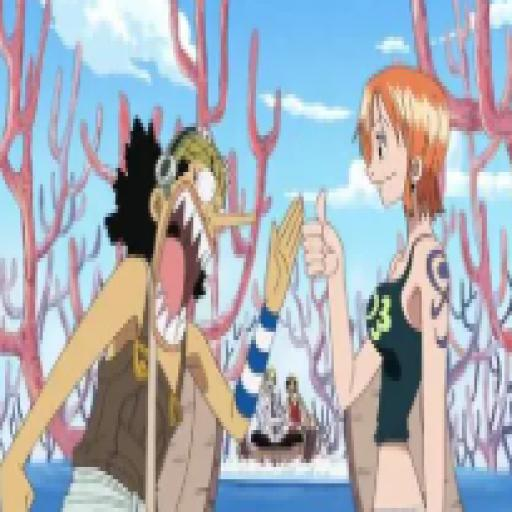Nami: (300, 64, 457, 512)
Usopp: (0, 110, 303, 512)
